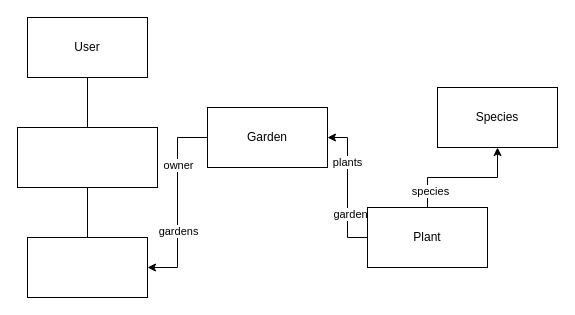
This 575x315 diagram has some shape labels left out. Here are the shapes that lost their labels. From the top down, the centre of each, then its label:
[87,157]: UserTeam role: owner|admin|member
[87,267]: Team
